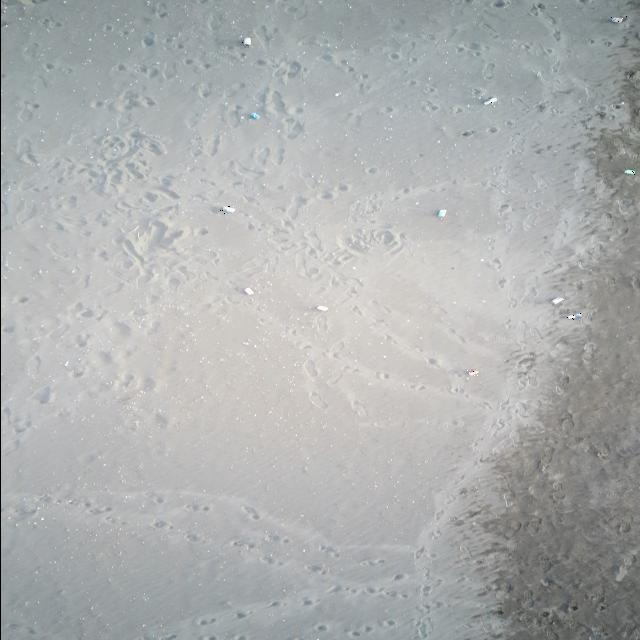Garbage: (220, 204, 235, 212), (608, 17, 627, 23), (436, 208, 446, 218), (566, 312, 580, 319), (484, 96, 496, 104), (552, 296, 564, 303), (248, 111, 258, 119), (241, 36, 251, 44), (624, 168, 635, 175), (243, 287, 252, 295), (316, 304, 327, 310), (467, 368, 476, 375)
